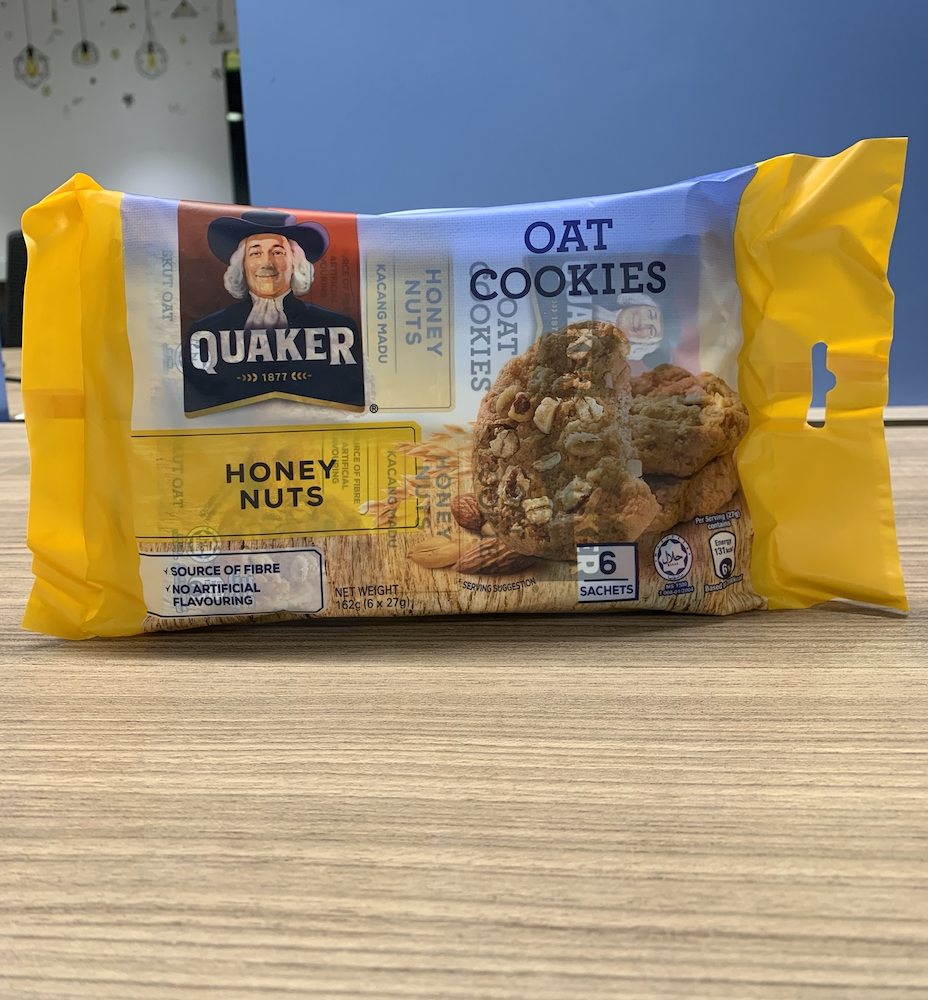cookies_100g-199g: (86, 213, 836, 607)
